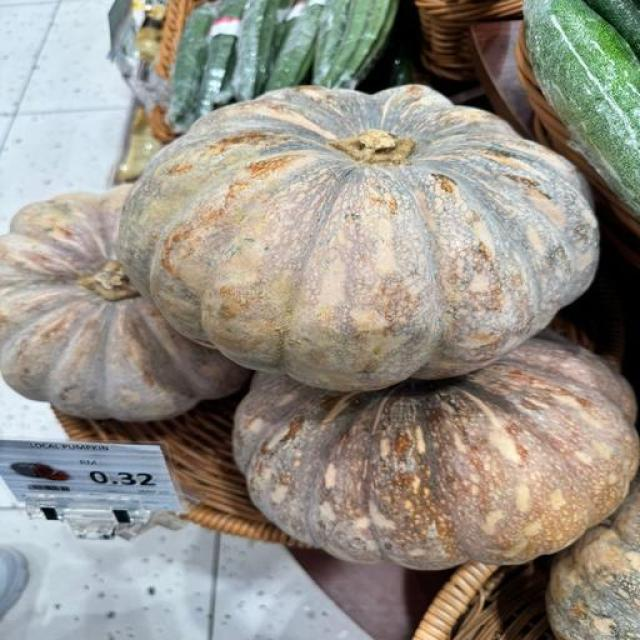organic: (0, 0, 640, 640), (168, 0, 398, 132), (524, 0, 639, 218), (314, 0, 398, 87), (167, 4, 217, 132), (357, 2, 419, 93), (198, 0, 244, 116), (358, 3, 414, 93), (320, 0, 377, 87), (267, 3, 322, 89), (233, 0, 279, 99), (353, 0, 398, 83), (313, 0, 352, 84), (197, 35, 236, 117), (587, 0, 639, 56), (255, 0, 281, 94), (214, 50, 236, 107), (273, 0, 294, 52), (389, 54, 413, 86), (302, 47, 314, 82)
